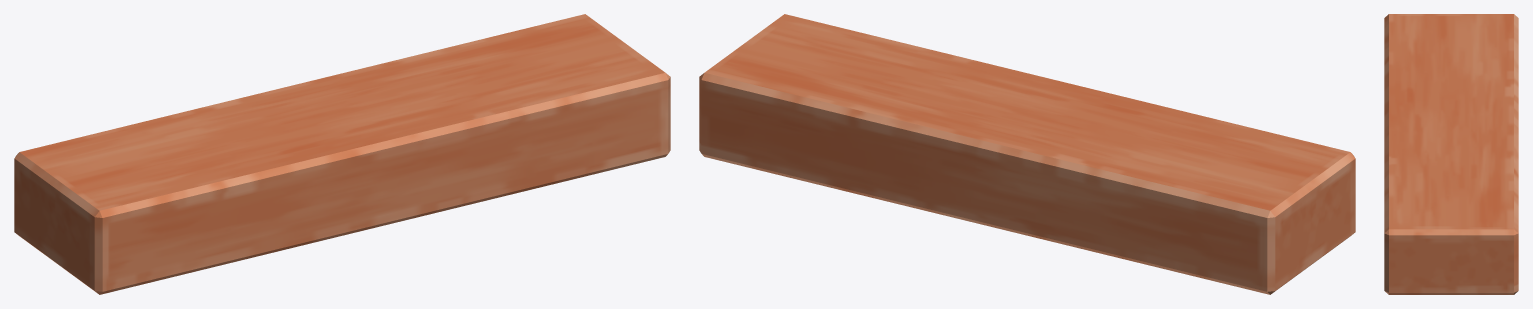
File: wall_door_lintel.fbx
The picture shows the model from 3 angles, left to right: view 1: azimuth 30°, elevation 25°; view 2: azimuth 150°, elevation 25°; view 3: azimuth 270°, elevation 25°; orthographic projection. The views are drawn at different scales.
Visible parts, largest first — view 1: wall_door_lintel; view 2: wall_door_lintel; view 3: wall_door_lintel.
Part boxes in pixels (<box>): wall_door_lintel: <box>14,14,670,294</box>; wall_door_lintel: <box>699,14,1355,294</box>; wall_door_lintel: <box>1384,14,1518,294</box>.
Size of the model in its own units: 5.8 by 0.81 by 1.5.
